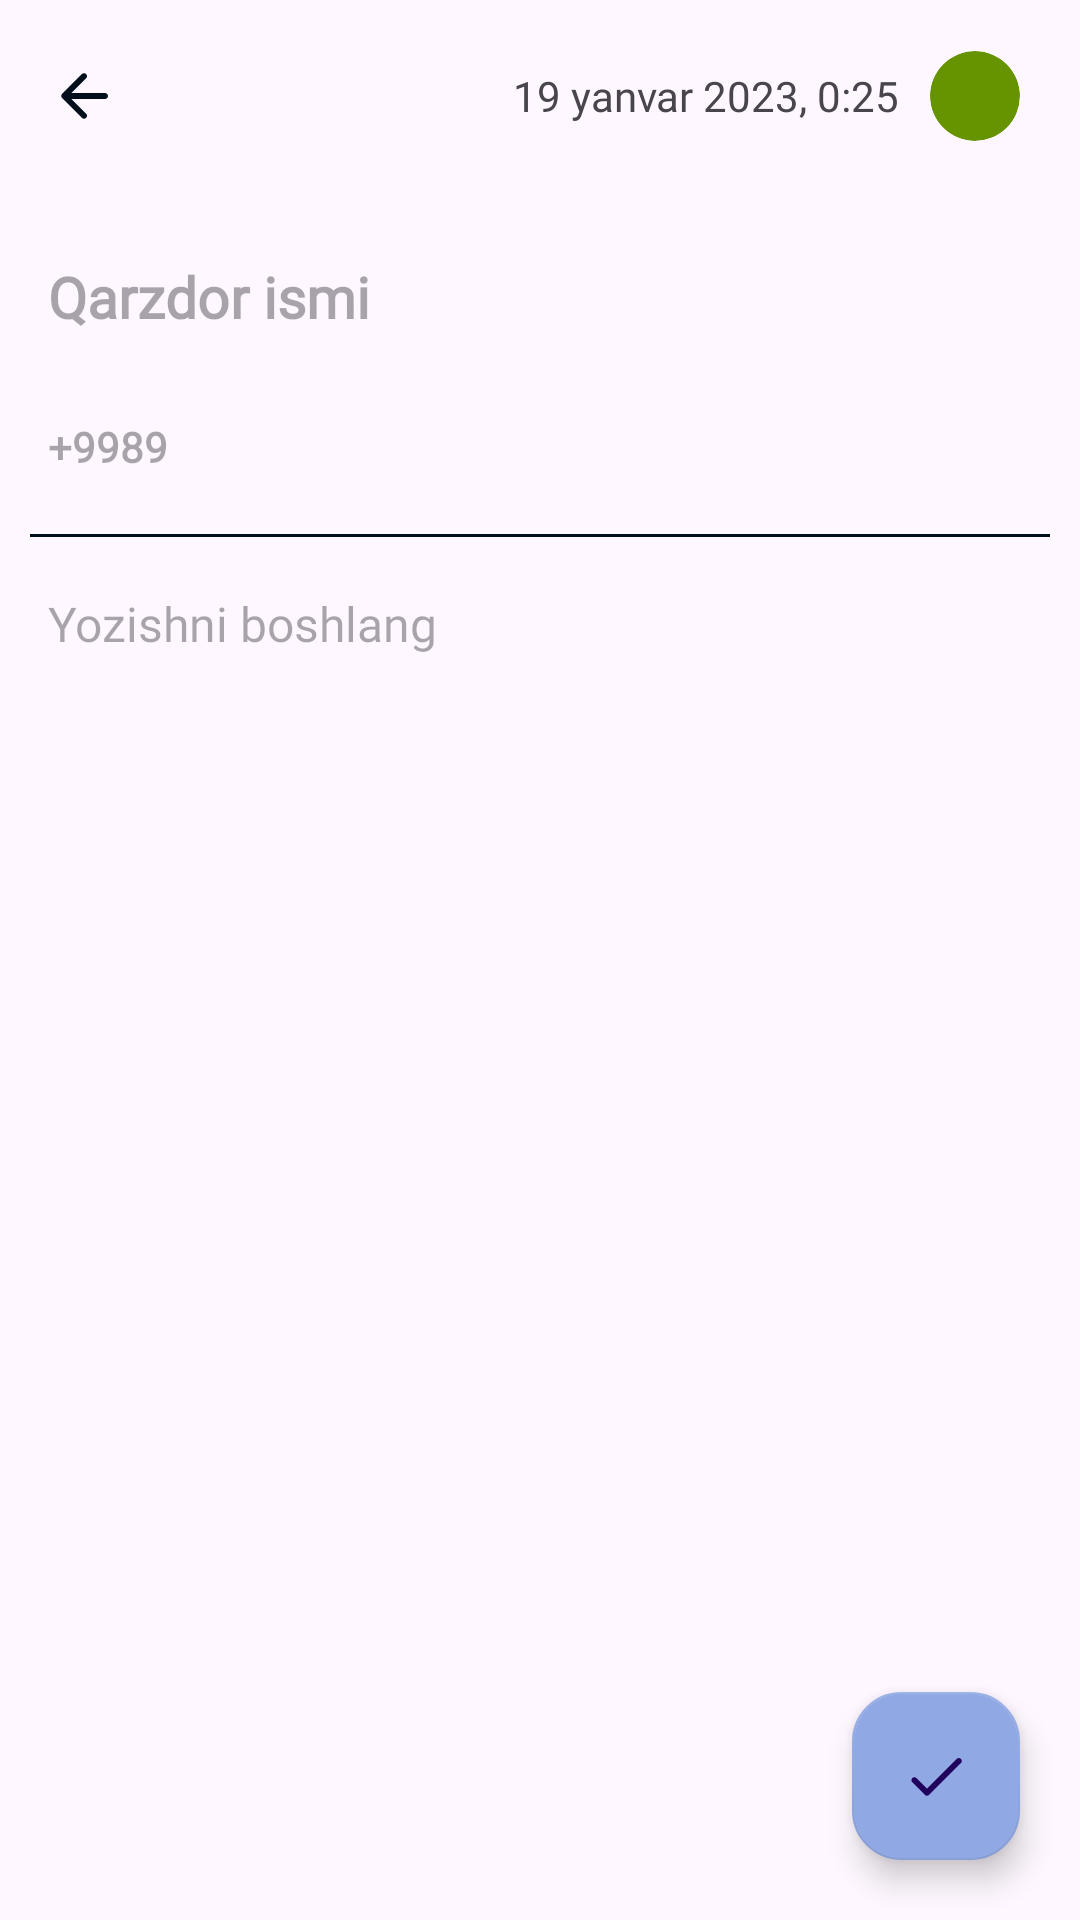

Named icons in this screenshot (1080*1920) and their bounding boxes, (left=x1, top=y1, right=x2, bottom=y2):
done: (left=852, top=1692, right=1020, bottom=1860)
